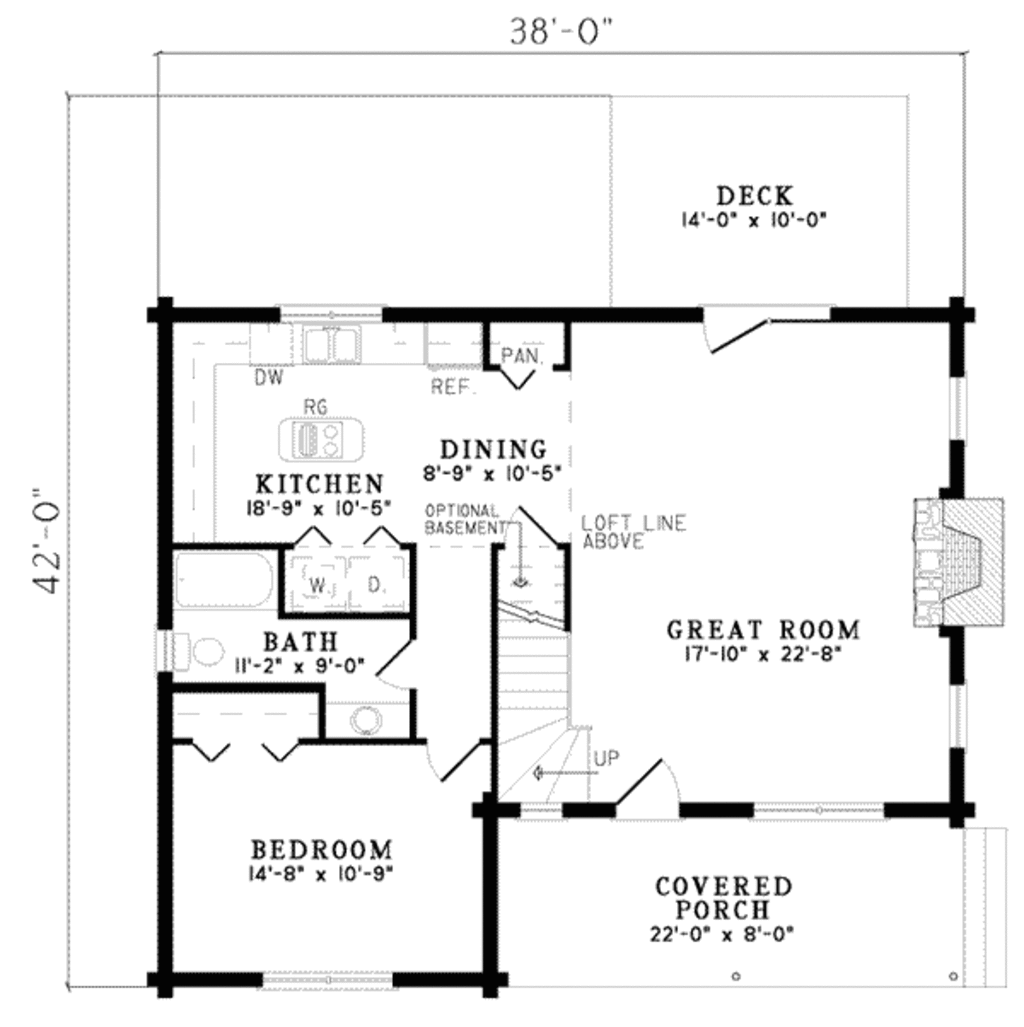door: (604, 754, 691, 828), (698, 301, 775, 357), (371, 638, 428, 696), (422, 740, 488, 783)
kitchen_bar: (261, 400, 388, 472)
large_sink: (162, 630, 240, 678)
small_sink: (324, 701, 425, 745)
stairs: (496, 543, 602, 805)
tub: (160, 544, 285, 614)
twin_sink: (288, 321, 381, 378)
window: (754, 797, 905, 830), (258, 972, 401, 997), (949, 369, 974, 448), (950, 682, 968, 754)
